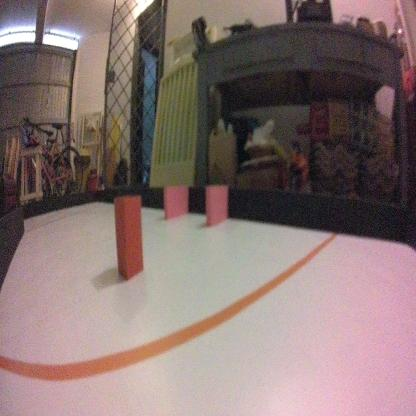magenta: (162, 177, 188, 219), (204, 184, 228, 229)
red: (112, 188, 145, 282)
